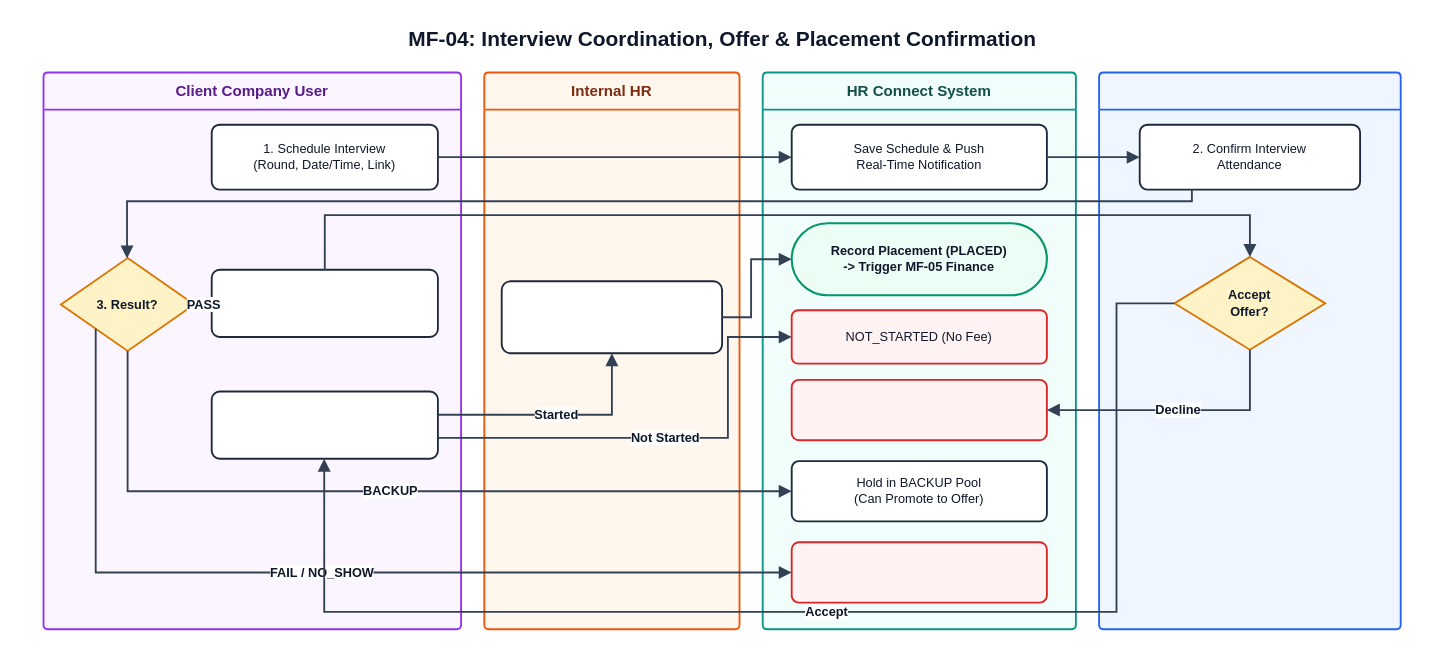
Some shapes in this 1443 by 650 pixel diagram are drawn without their labels. The box of each missing label's shape, as (x1, y1, x2, y2) in pixels:
4. Create & Send Job Offer (Gross/Month for HEADHUNT): (210, 268, 438, 337)
5. Confirm Actual Start Work (or Mark NOT_STARTED): (210, 390, 438, 459)
6. Verify HEADHUNT_COD Placement Reconciliation: (500, 280, 722, 354)
Candidate: (1098, 71, 1401, 630)
INTERVIEW_FAILED (End): (790, 541, 1047, 603)
OFFER_DECLINED (End): (790, 378, 1047, 441)
